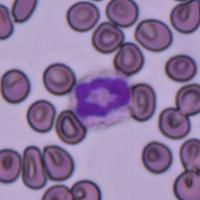N: (69, 72, 134, 128)
